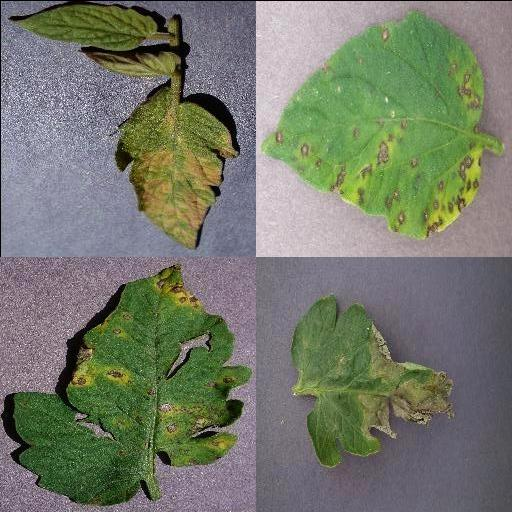Healthy: (6, 0, 155, 49)
Late Blight: (292, 291, 456, 465)
Leaf Mold: (106, 84, 239, 252)
Septoria: (13, 260, 253, 506), (261, 11, 483, 237)
